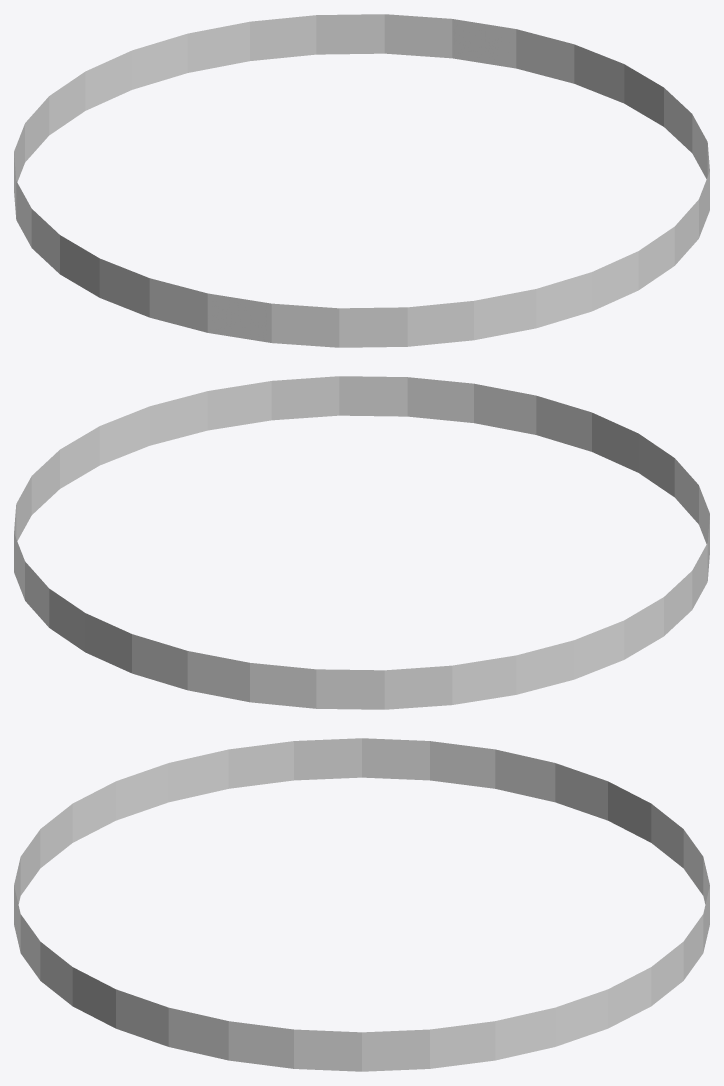
The model's file is ring_scroll2.fbx.
3 views of the same model, one above another, from view 1: azimuth 30°, elevation 25°; view 2: azimuth 150°, elevation 25°; view 3: azimuth 270°, elevation 25° (orthographic).
Visible parts, largest first — view 1: Cylinder; view 2: Cylinder; view 3: Cylinder.
Part boxes in pixels (x1,y1,x2,y2): Cylinder: [14, 14, 709, 347]; Cylinder: [14, 376, 709, 709]; Cylinder: [14, 738, 709, 1071].
Size of the model in its own units: 800 by 50 by 800.
